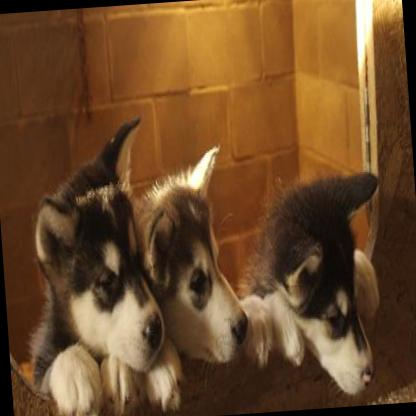malamute: (7, 105, 169, 416), (252, 164, 396, 409), (126, 131, 254, 375)
